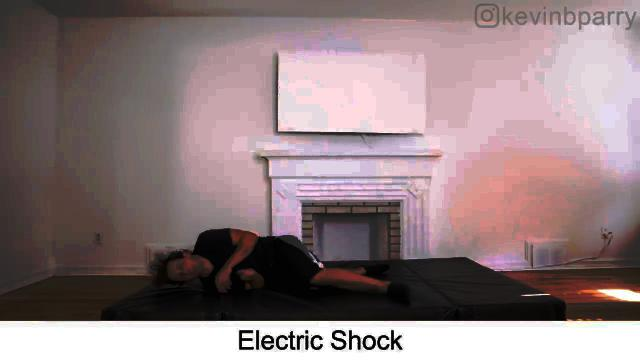jatuh: (148, 216, 422, 316)
